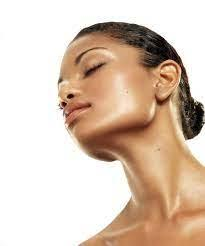Oily-Skin: (100, 71, 142, 118), (92, 48, 122, 60)
